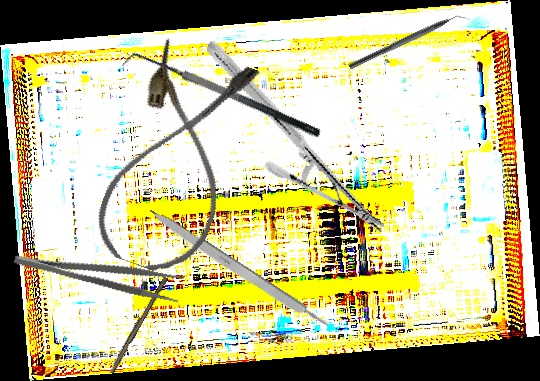Cannula: (86, 35, 266, 285)
Chopper: (348, 7, 471, 78)
Dressing Forceps: (12, 237, 185, 306)
Needle Holder: (169, 39, 422, 235)
Scalpel Handle: (144, 205, 333, 335), (107, 274, 169, 376)
Spatula Surgical: (121, 41, 322, 154)
